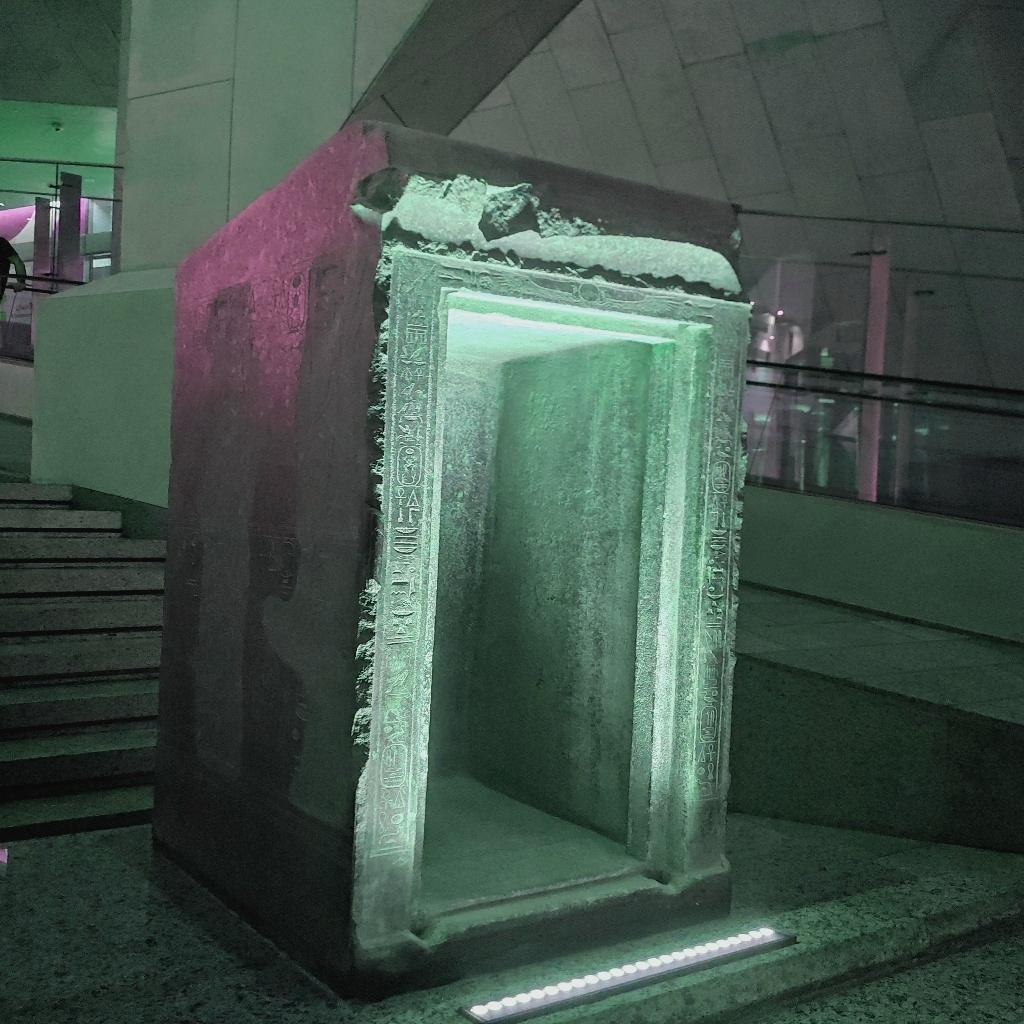Naos of Senwosert I: (174, 123, 751, 996)
